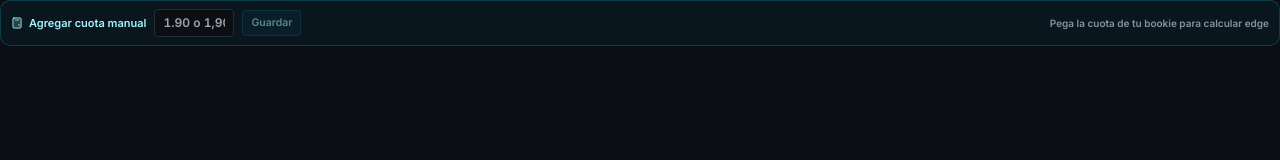
it: match_card_hides_no_value_when_saved_only
Type "1.64" into the field with test id "inline-manual-odds-input-field" at (194, 23), box [154,9,234,37]
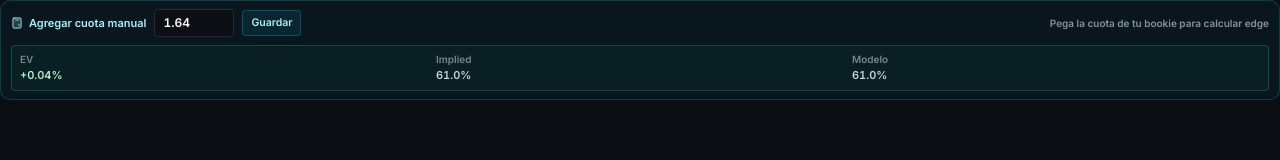
Click the button with test id "inline-manual-odds-input-submit" at (272, 23), box [242,10,301,36]
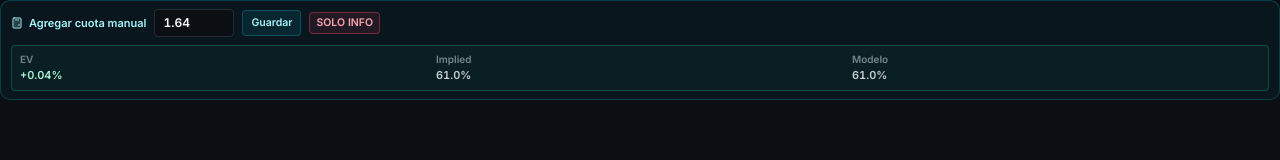
Check: the text with test id "inline-manual-odds-input-decision" does not show "NO VALUE", box [310,12,380,34]
Check: the text "SOLO INFO" is shown, box [310,12,380,34]
Check: the text with test id "inline-manual-odds-input-decision" reads "SOLO INFO", box [316,16,373,29]
